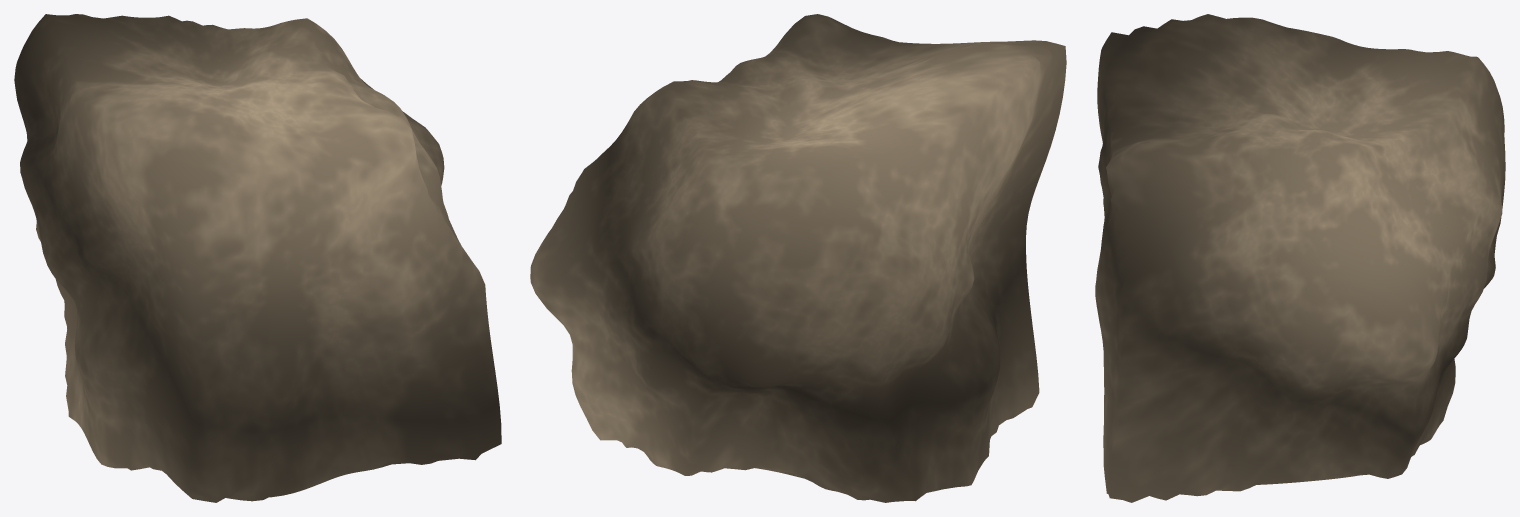
File: asteroid-scree.glb
The picture shows the model from 3 angles, left to right: view 1: azimuth 30°, elevation 25°; view 2: azimuth 150°, elevation 25°; view 3: azimuth 270°, elevation 25°; orthographic projection. The views are drawn at different scales.
Visible parts, largest first — view 1: asteroid_4003; view 2: asteroid_4003; view 3: asteroid_4003.
Boxes of the visible parts, <box> form: asteroid_4003: <box>14,14,501,502</box>; asteroid_4003: <box>530,14,1066,502</box>; asteroid_4003: <box>1095,14,1505,502</box>.
Size of the model in its own units: 26.21 by 25.86 by 27.1.
Materials: 1 (1 with a texture image).
